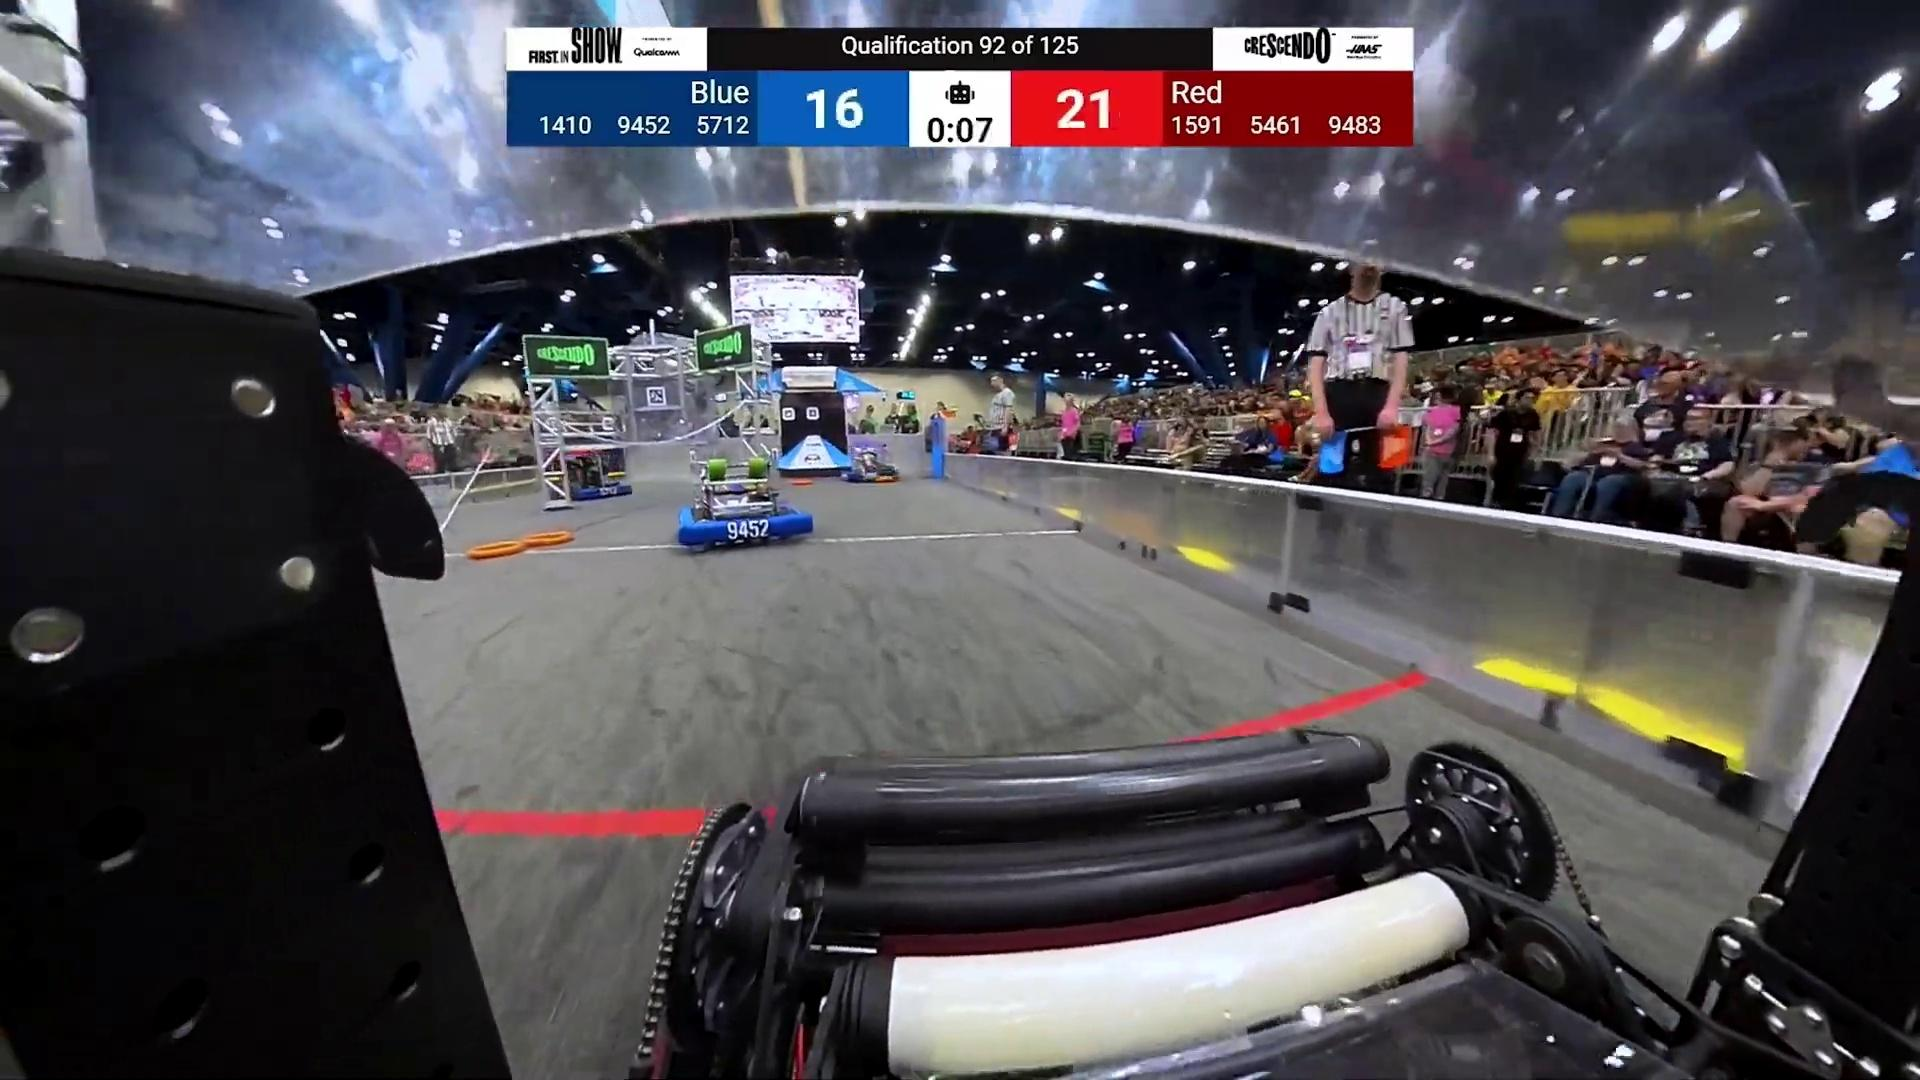robot: (678, 448, 814, 550), (550, 452, 634, 504), (840, 443, 899, 484)
